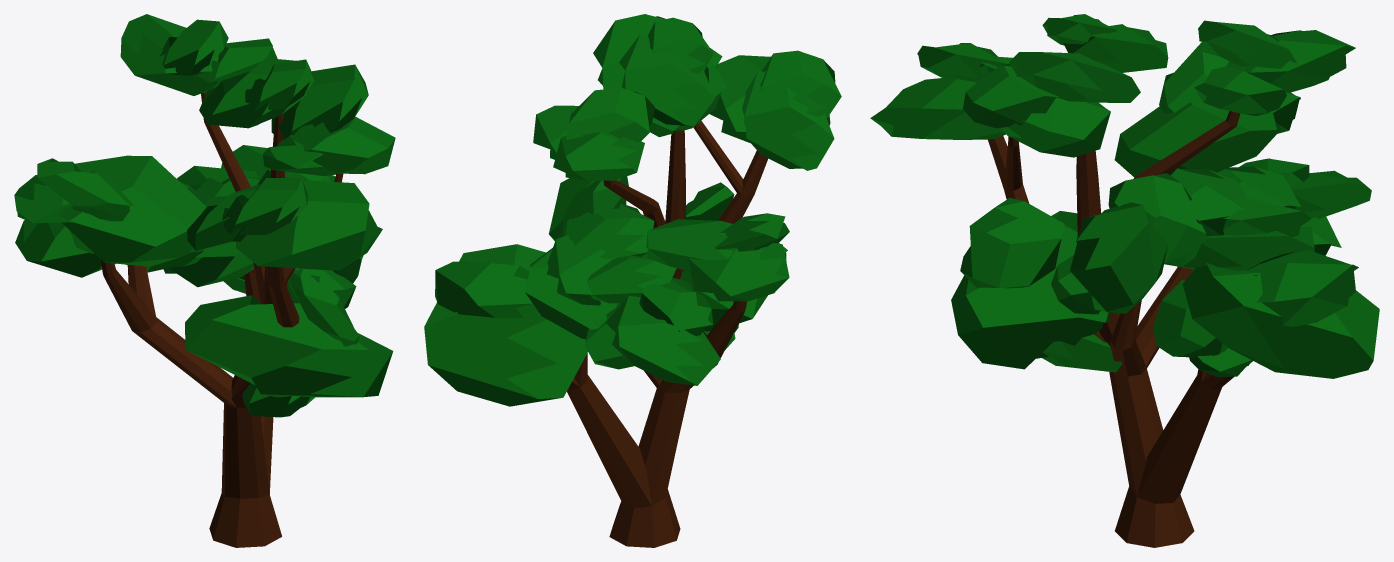
Rendered from Chunky_Tree_2.fbx.
3 renders of one model, left to right at view 1: azimuth 30°, elevation 25°; view 2: azimuth 150°, elevation 25°; view 3: azimuth 270°, elevation 25°, orthographic. The views are drawn at different scales.
Parts seen in each view (by area): view 1: Chunky_Tree 2; view 2: Chunky_Tree 2; view 3: Chunky_Tree 2.
Part boxes in pixels (bbox=[...]): Chunky_Tree 2: bbox=[14, 14, 395, 547]; Chunky_Tree 2: bbox=[424, 14, 841, 547]; Chunky_Tree 2: bbox=[870, 14, 1379, 547].
Size of the model in its own units: 0.7829 by 1.06 by 0.9418.
